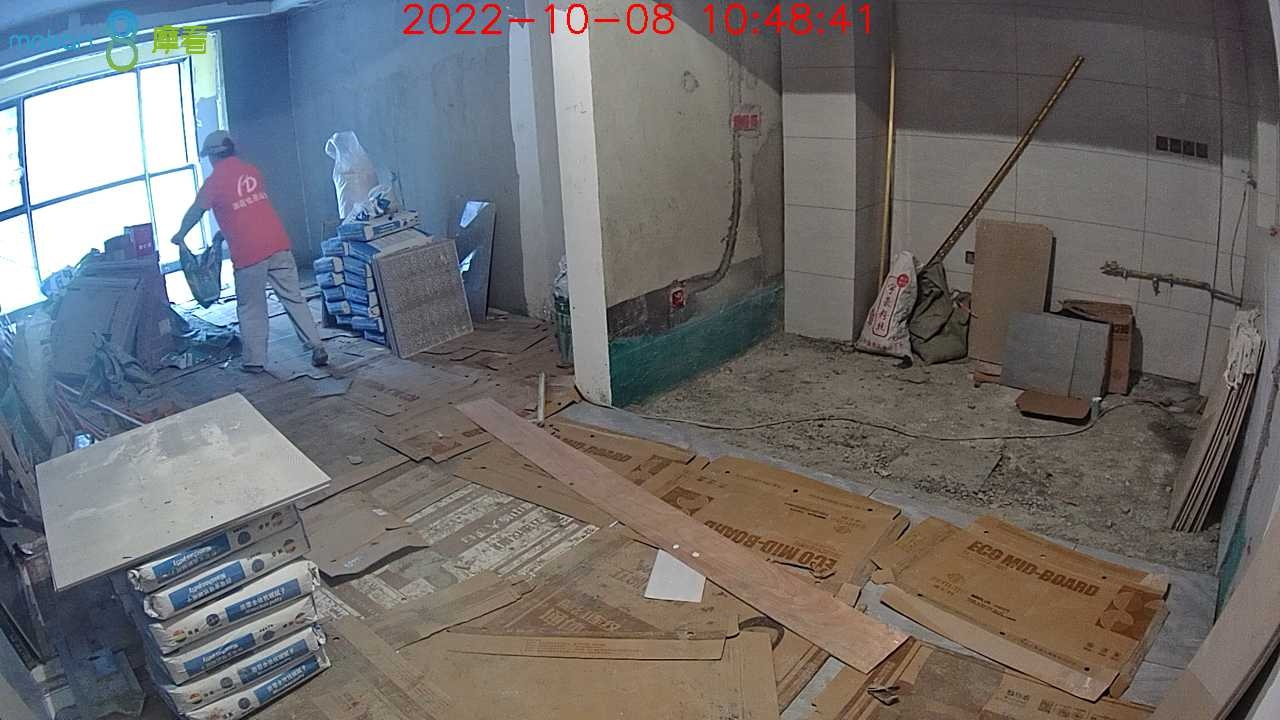people: (174, 131, 330, 372)
window: (3, 70, 211, 289)
